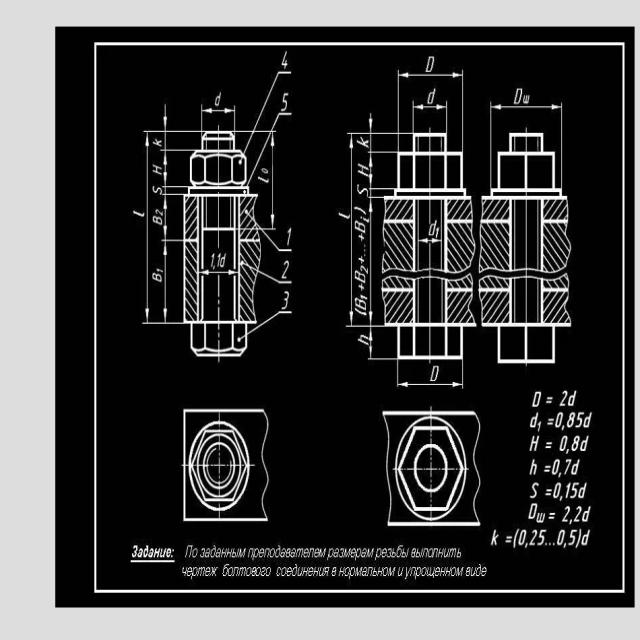marking_line: (144, 127, 183, 325), (347, 133, 369, 328), (396, 71, 464, 133), (490, 102, 563, 131), (368, 196, 384, 328), (159, 237, 182, 324), (396, 362, 463, 390), (262, 129, 277, 231), (158, 149, 188, 190), (160, 192, 183, 243), (411, 100, 448, 131), (368, 151, 395, 192), (368, 327, 398, 361), (200, 103, 237, 130), (489, 101, 508, 151), (488, 102, 497, 188), (545, 102, 561, 150), (367, 325, 386, 361), (556, 102, 563, 188), (200, 269, 237, 276), (419, 237, 440, 245)
numeric: (280, 288, 289, 312), (567, 528, 577, 547), (518, 527, 527, 547), (571, 480, 580, 499), (537, 529, 547, 546), (552, 459, 561, 477), (560, 388, 568, 408), (575, 411, 585, 427), (557, 529, 566, 546), (280, 92, 288, 111), (555, 411, 563, 429), (574, 505, 582, 523), (529, 528, 537, 546), (282, 51, 289, 71), (283, 260, 290, 280), (572, 436, 580, 453), (553, 482, 561, 499), (562, 506, 570, 523), (565, 456, 572, 474), (561, 435, 568, 452), (286, 224, 291, 247), (564, 480, 570, 499), (567, 411, 574, 426), (360, 264, 369, 274), (210, 251, 214, 267), (155, 208, 163, 216), (260, 168, 269, 175), (217, 252, 220, 268), (436, 227, 440, 238), (157, 268, 163, 273)
special_symbol: (576, 528, 583, 550), (513, 528, 520, 548), (545, 395, 554, 406), (545, 440, 553, 451), (545, 487, 553, 497), (543, 463, 551, 473), (548, 511, 555, 522), (505, 535, 513, 544), (548, 417, 555, 425)
